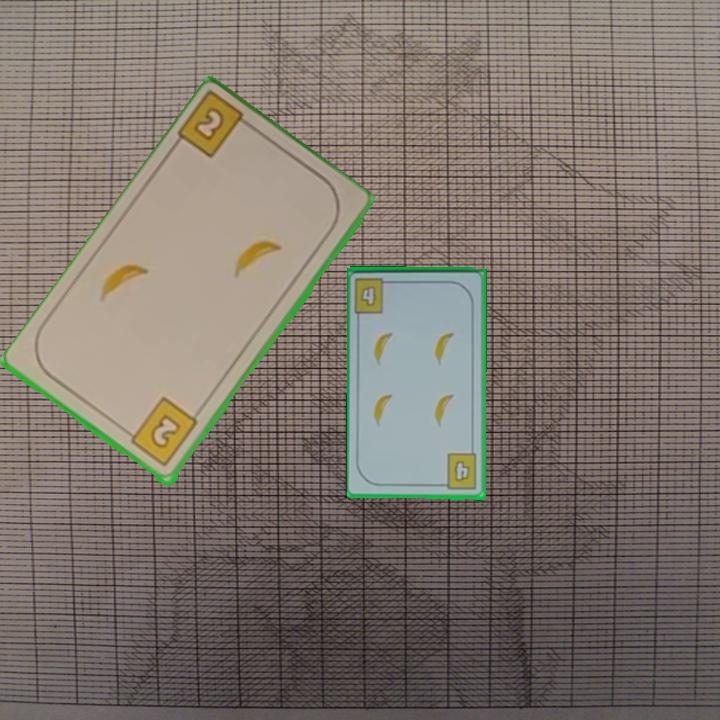2b: (121, 394, 201, 470), (174, 91, 259, 162)
4b: (351, 274, 396, 316), (437, 451, 479, 493)
